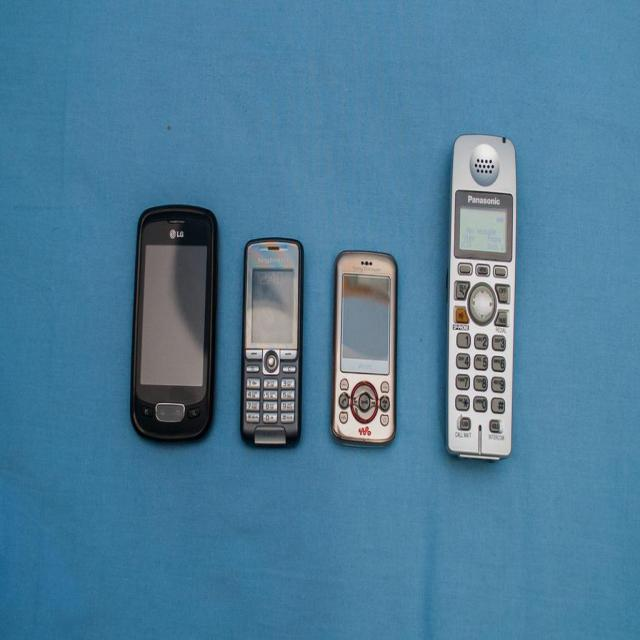Phone: (432, 129, 520, 474), (128, 196, 228, 451), (325, 237, 403, 463), (230, 242, 312, 450)
